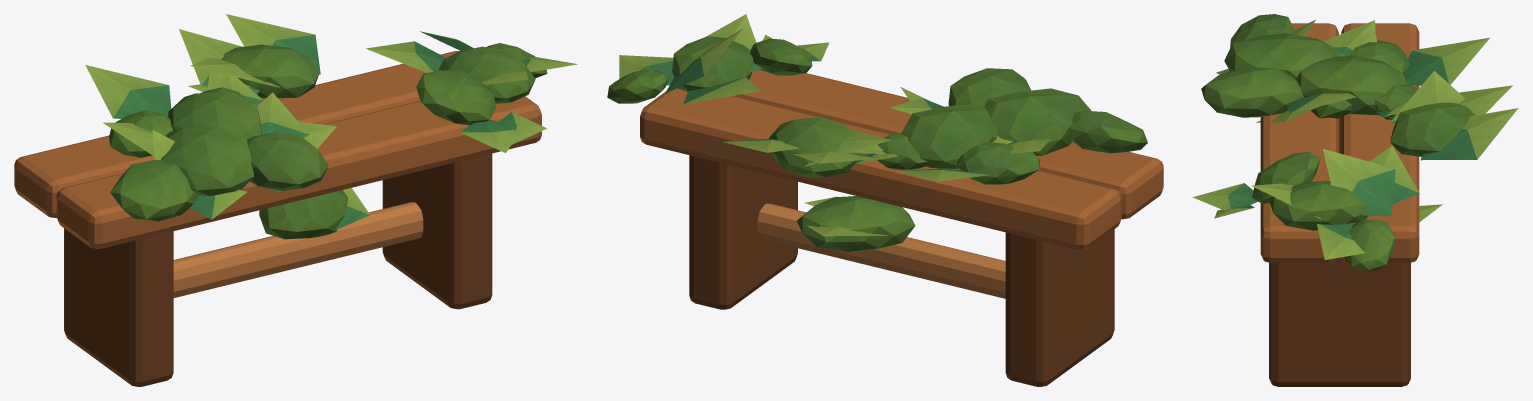
The model's file is kit_bench.glb.
The picture shows the model from 3 angles, left to right: view 1: azimuth 30°, elevation 25°; view 2: azimuth 150°, elevation 25°; view 3: azimuth 270°, elevation 25°; orthographic projection. The views are drawn at different scales.
Parts seen in each view (by area): view 1: Bench seat, Bench trestle, Bench trestle.001, Bench seat.001, Bench stretcher, Woodland shared moss cushion.014, Woodland shared moss cushion.021, Woodland shared moss cushion.018, Woodland shared moss cushion.017, Woodland shared moss cushion.025, Woodland shared moss cushion.023, Woodland shared moss cushion.015 (+16 smaller); view 2: Bench seat.001, Bench trestle, Bench trestle.001, Bench seat, Bench stretcher, Woodland shared moss cushion.015, Woodland shared moss cushion.014, Woodland shared moss cushion.023, Woodland shared moss cushion.017, Woodland shared moss cushion.021, Woodland shared moss cushion.016, Woodland shared moss cushion.019 (+12 smaller); view 3: Bench trestle.001, Bench seat, Bench seat.001, Woodland shared moss cushion.018, Woodland shared moss cushion.023, Woodland shared moss cushion.016, Woodland shared moss cushion.014, Woodland shared moss cushion.017, Woodland shared curved ivy leaf.064, Woodland shared curved ivy leaf.058, Woodland shared curved ivy leaf.055, Woodland shared moss cushion.022 (+13 smaller).
Part boxes in pixels (x1,y1,x2,y2): Bench seat: [56, 96, 541, 248]; Bench trestle: [64, 228, 173, 386]; Bench trestle.001: [382, 153, 492, 309]; Bench seat.001: [14, 51, 459, 217]; Bench stretcher: [173, 202, 423, 297]; Woodland shared moss cushion.014: [161, 126, 253, 196]; Woodland shared moss cushion.021: [110, 159, 198, 221]; Woodland shared moss cushion.018: [247, 132, 328, 191]; Woodland shared moss cushion.017: [221, 44, 319, 98]; Woodland shared moss cushion.025: [416, 69, 496, 125]; Woodland shared moss cushion.023: [168, 92, 261, 139]; Woodland shared moss cushion.015: [259, 190, 347, 239]; Bench seat.001: [640, 88, 1121, 249]; Bench trestle: [1005, 229, 1114, 386]; Bench trestle.001: [689, 155, 797, 309]; Bench seat: [733, 69, 1163, 219]; Bench stretcher: [757, 203, 1005, 298]; Woodland shared moss cushion.015: [797, 196, 915, 251]; Woodland shared moss cushion.014: [984, 88, 1091, 155]; Woodland shared moss cushion.023: [901, 104, 997, 168]; Woodland shared moss cushion.017: [769, 117, 857, 177]; Woodland shared moss cushion.021: [1068, 111, 1147, 153]; Woodland shared moss cushion.016: [672, 36, 753, 91]; Woodland shared moss cushion.019: [957, 142, 1039, 184]; Bench trestle.001: [1269, 257, 1410, 386]; Bench seat: [1260, 23, 1338, 262]; Bench seat.001: [1341, 23, 1419, 262]; Woodland shared moss cushion.018: [1201, 68, 1304, 117]; Woodland shared moss cushion.023: [1296, 55, 1407, 115]; Woodland shared moss cushion.016: [1269, 181, 1368, 230]; Woodland shared moss cushion.014: [1224, 33, 1341, 79]; Woodland shared moss cushion.017: [1390, 102, 1475, 156]; Woodland shared curved ivy leaf.064: [1323, 149, 1395, 216]; Woodland shared curved ivy leaf.058: [1403, 37, 1489, 85]; Woodland shared curved ivy leaf.055: [1420, 108, 1518, 160]; Woodland shared moss cushion.022: [1346, 219, 1394, 270].
Size of the model in its own units: 1.2 by 0.5498 by 0.6884.
Materials: 6 (3 with a texture image).
